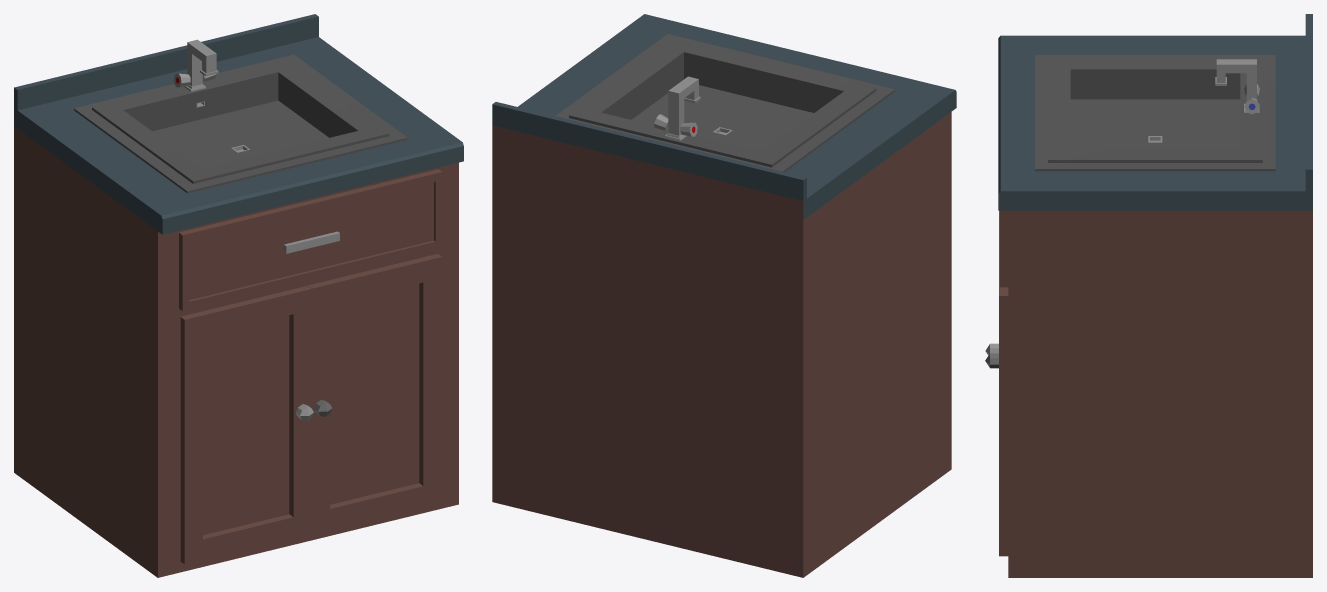
File: Kitchen Sink.glb
3 renders of one model, left to right at view 1: azimuth 30°, elevation 25°; view 2: azimuth 150°, elevation 25°; view 3: azimuth 270°, elevation 25°, orthographic. The views are drawn at different scales.
Parts seen in each view (by area): view 1: Sink; view 2: Sink; view 3: Sink.
Part boxes in pixels (x1,y1,x2,y2): Sink: (14,14,463,577); Sink: (492,14,956,577); Sink: (985,14,1312,577).
Size of the model in its own units: 0.7744 by 1.02 by 0.6888.
Materials: 1 (1 with a texture image).
